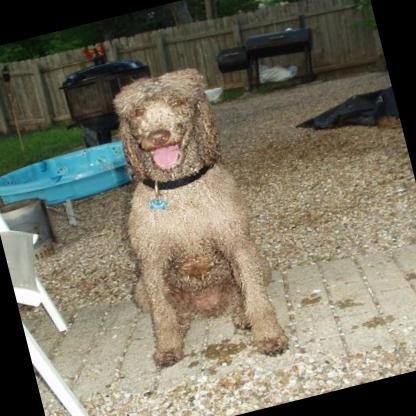standard_poodle: (78, 53, 291, 386)
